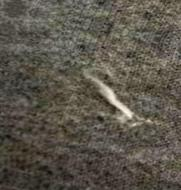snag: (74, 65, 143, 128)
